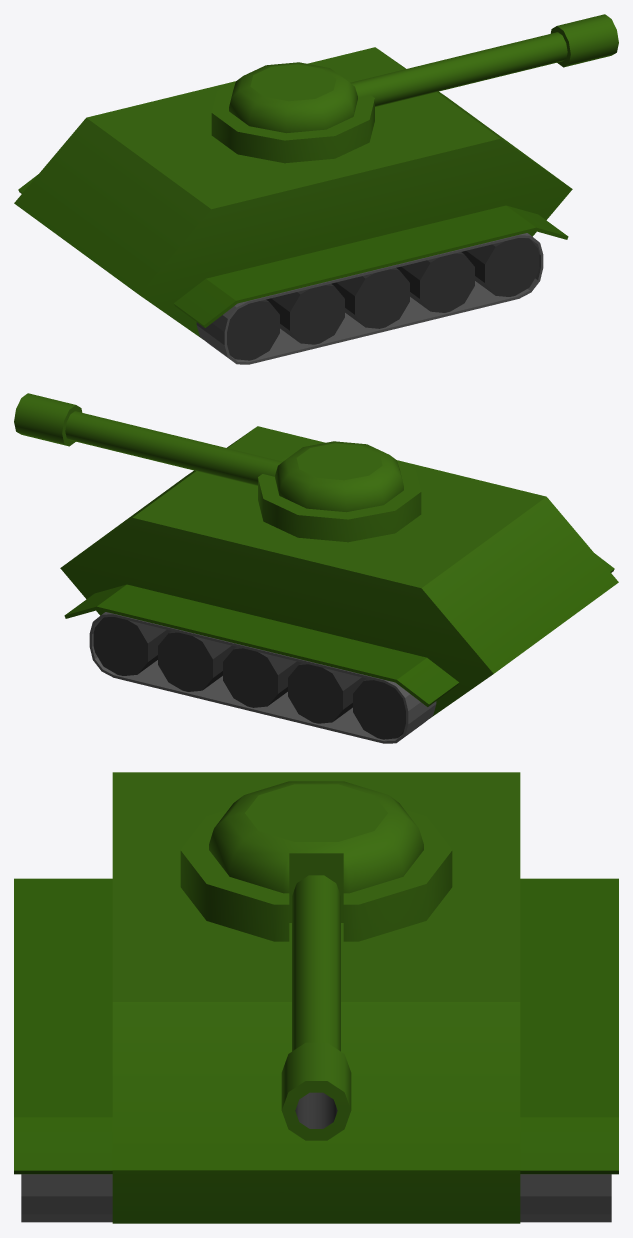
Rendered from 3270596f-b3f2-4923-952a-c664f7c54acc.glb.
The picture shows the model from 3 angles, top to bottom: view 1: azimuth 30°, elevation 25°; view 2: azimuth 150°, elevation 25°; view 3: azimuth 270°, elevation 25°; orthographic projection. The views are drawn at different scales.
Visible parts, largest first — view 1: TankBody, TankWheels, TankWheels2; view 2: TankBody, TankWheels, TankWheels2; view 3: TankBody, TankWheels2.
Part boxes in pixels (left/top/right/bottom): TankBody: left=14, top=14, right=618, bottom=339; TankWheels: left=227, top=238, right=539, bottom=360; TankWheels2: left=196, top=233, right=543, bottom=364; TankBody: left=14, top=393, right=618, bottom=718; TankWheels: left=93, top=617, right=405, bottom=739; TankWheels2: left=89, top=612, right=436, bottom=743; TankBody: left=14, top=772, right=618, bottom=1223; TankWheels2: left=21, top=1174, right=611, bottom=1222.
Size of what is drawn, in the model's own units: 7.36 by 2.41 by 4.45.
Materials: 1 (1 with a texture image).
